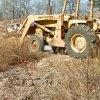Tractor: (15, 4, 100, 58)
